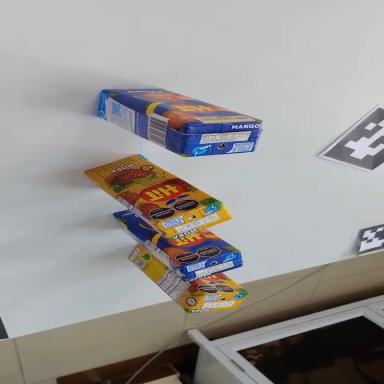HIT-MANGO: (89, 71, 265, 177), (105, 181, 247, 302)
HIT-MORA: (77, 135, 236, 260), (119, 242, 250, 329)
cara_F: (78, 135, 221, 247), (110, 181, 239, 287), (101, 71, 263, 145), (190, 271, 248, 296)
